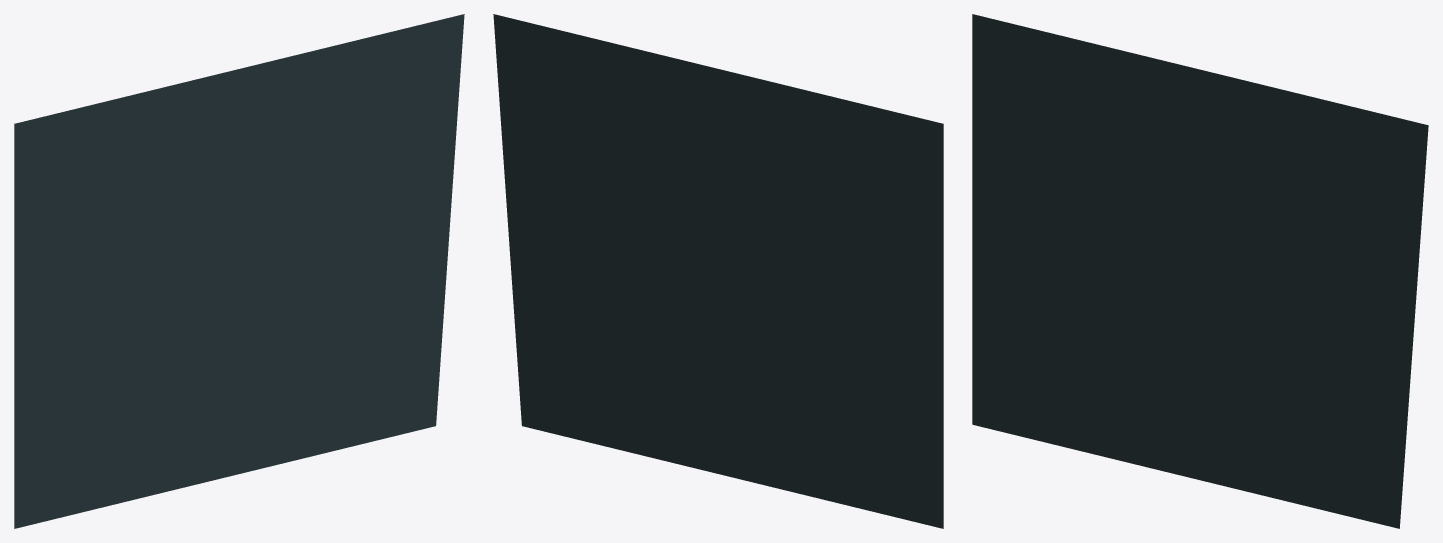
The model's file is fish4.glb.
3 views of the same model, side by side, from view 1: azimuth 30°, elevation 25°; view 2: azimuth 150°, elevation 25°; view 3: azimuth 330°, elevation 25° (orthographic).
Visible parts, largest first — view 1: fish.054; view 2: fish.054; view 3: fish.054.
Boxes of the visible parts, x1,y1,x2,y2 form: fish.054: [14, 14, 464, 528]; fish.054: [493, 14, 943, 528]; fish.054: [972, 14, 1428, 528].
Size of the model in its own units: 0.5102 by 0.4388 by 0.
Materials: 1 (1 with a texture image).
